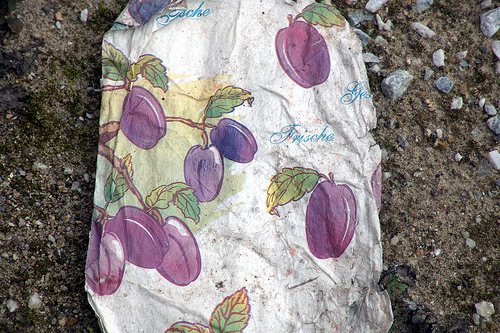litter: (86, 0, 395, 332)
